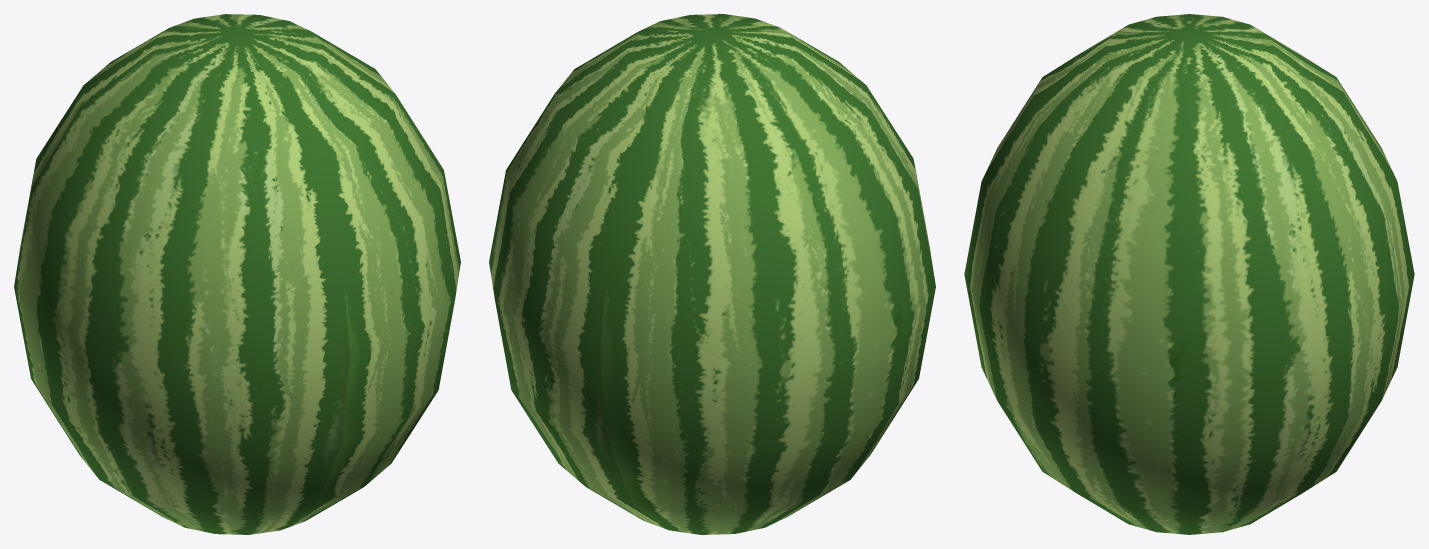
File: fixed_melon.glb
3 views of the same model, side by side, from view 1: azimuth 30°, elevation 25°; view 2: azimuth 150°, elevation 25°; view 3: azimuth 270°, elevation 25° (orthographic).
Visible parts, largest first — view 1: Sphere; view 2: Sphere; view 3: Sphere.
Part boxes in pixels (bbox=[...]): Sphere: bbox=[14, 14, 460, 534]; Sphere: bbox=[489, 14, 935, 534]; Sphere: bbox=[964, 14, 1414, 534].
Size of the model in its own units: 2 by 2.38 by 2.
1 material, 1 textured.
